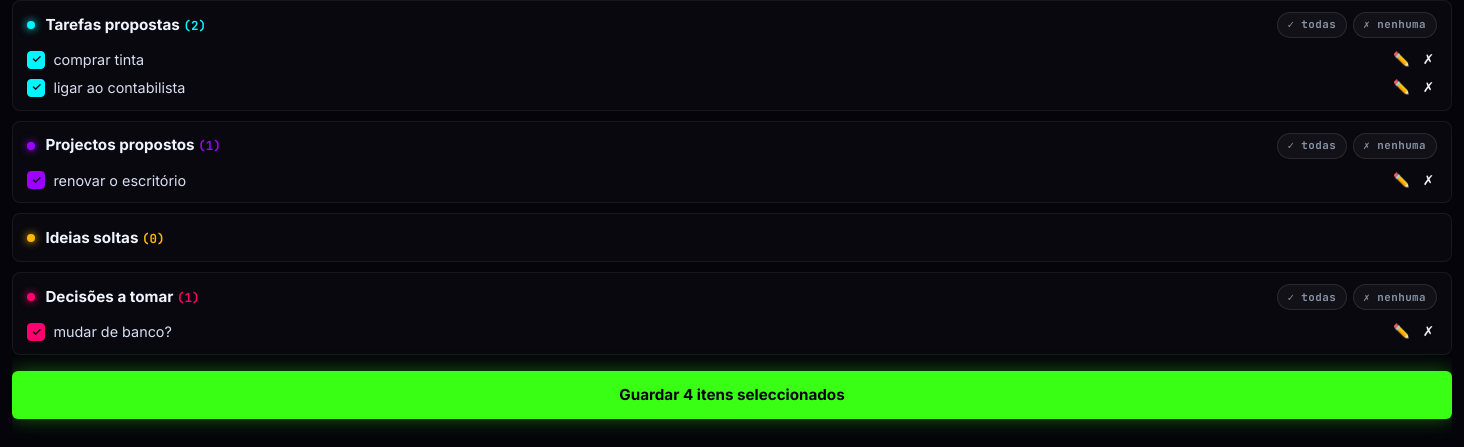
Test: BrainDumpApprovalView › botão ✗ rejeita (desmarca) o item
The image size is (1464, 447).
Click the button named "Rejeitar item: comprar tinta" at (1428, 60), box [1420,51,1437,69]
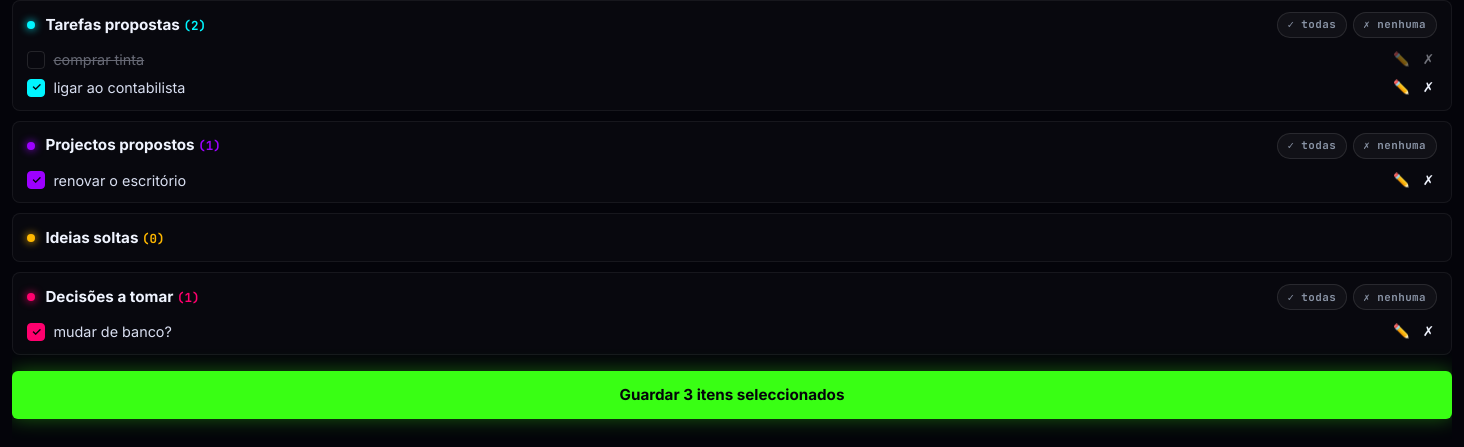
Now the button with test id "brain-dump-save-button" shows "3 itens seleccionados", box [12,371,1452,419]
